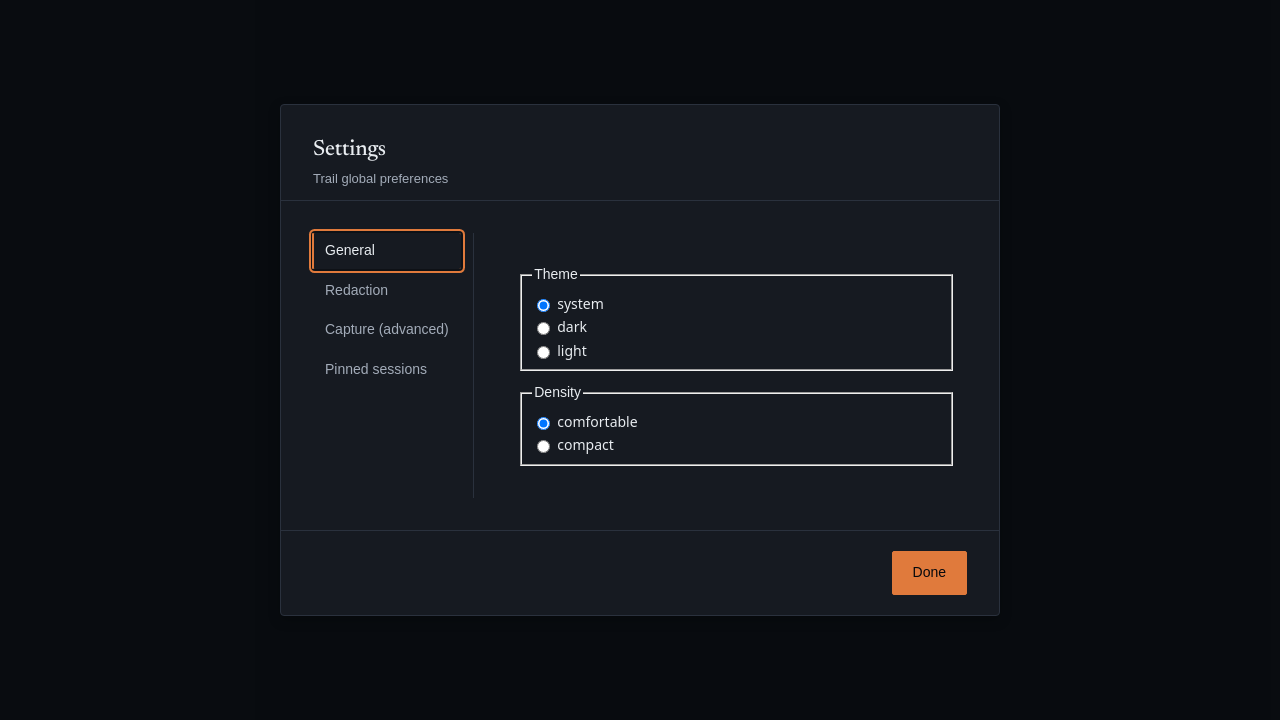
Test case: <M6SettingsModal> › shows pinned-sessions empty state when none
This screenshot has width=1280, height=720.
Click the tab "Pinned sessions".
click(387, 370)  # box [313,352,461,388]
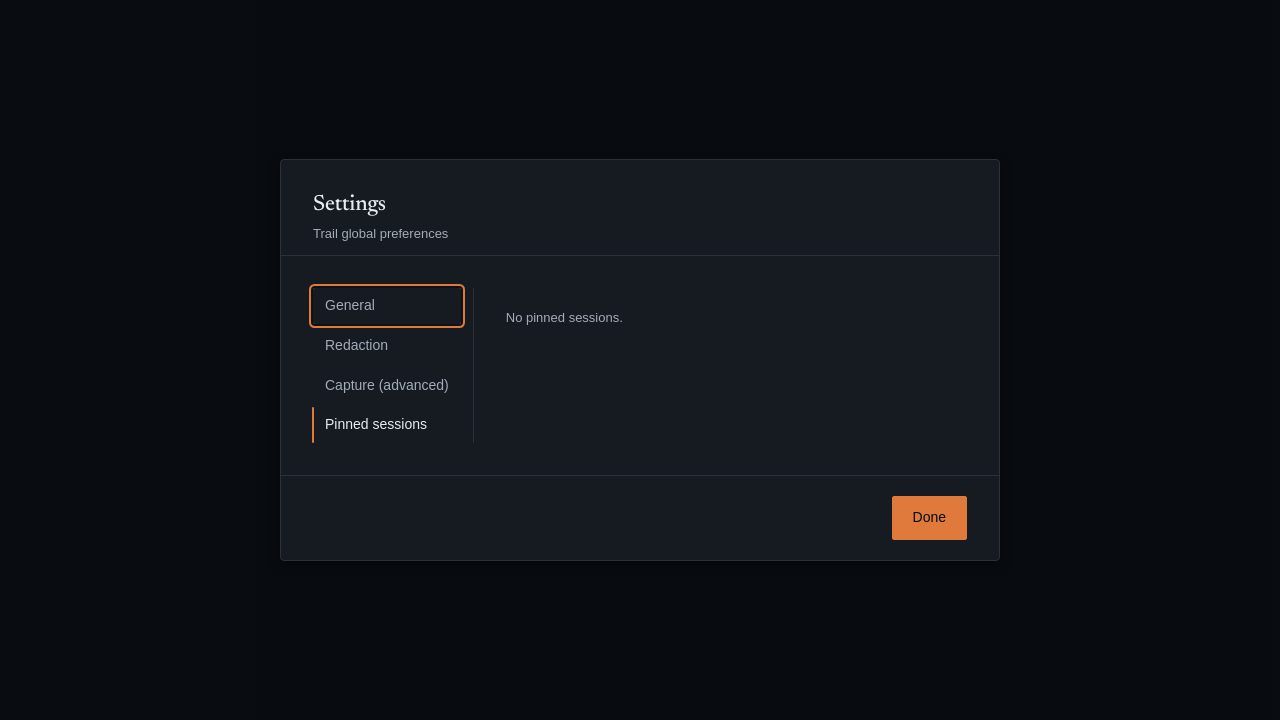
expect the text "No pinned sessions" is shown: met, box [506,310,623,325]
